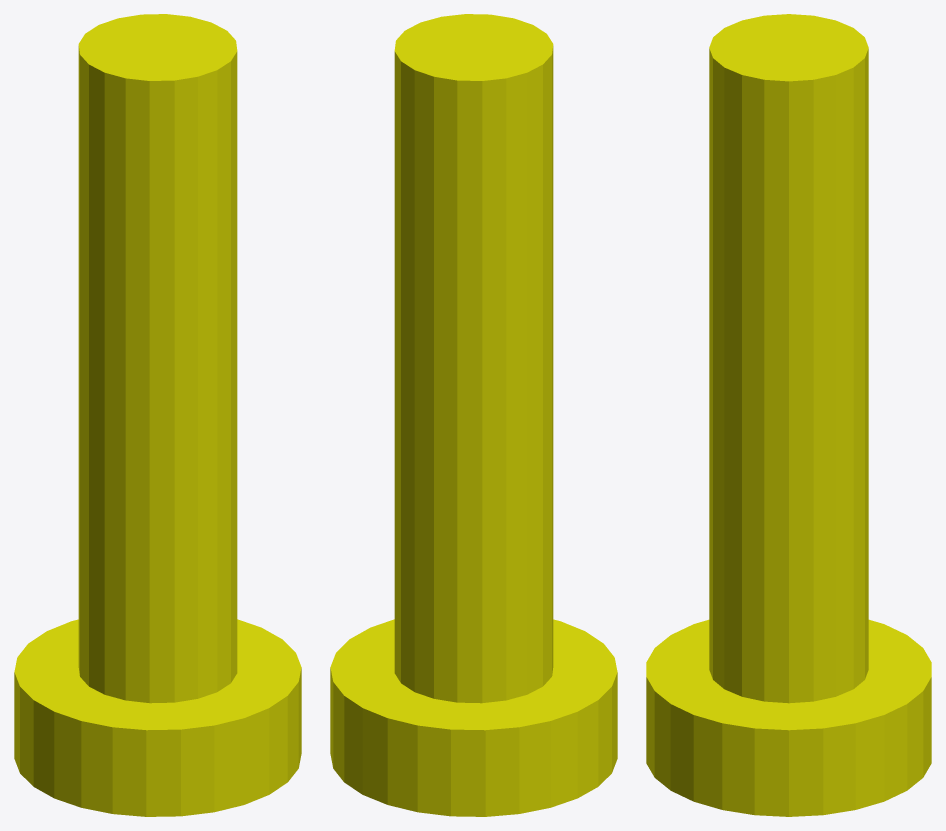
The model's file is yellow_marker_can.dae.
3 renders of one model, left to right at view 1: azimuth 30°, elevation 25°; view 2: azimuth 150°, elevation 25°; view 3: azimuth 270°, elevation 25°, orthographic.
Parts seen in each view (by area): view 1: ShapeIndexedFaceSet; view 2: ShapeIndexedFaceSet; view 3: ShapeIndexedFaceSet.
Part boxes in pixels (<box>): ShapeIndexedFaceSet: <box>14,14,301,816</box>; ShapeIndexedFaceSet: <box>330,14,617,816</box>; ShapeIndexedFaceSet: <box>646,14,931,816</box>.
Size of the model in its own units: 0.4572 by 0.4539 by 1.24.
